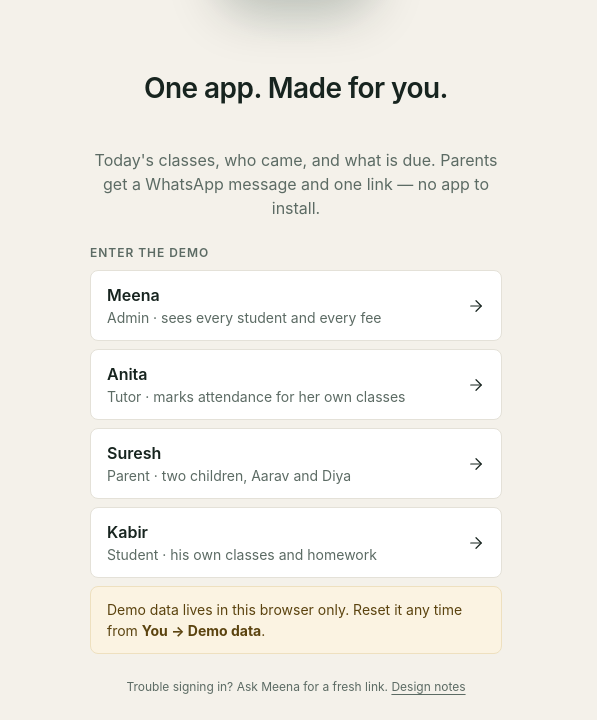
Test: person profiles › shows a student their own account without any family section
(page scrolled)
Click the button "Kabir Student · his own classes and homework" at (127, 532), box x1=90 y1=507 x2=502 y2=578
(page scrolled)
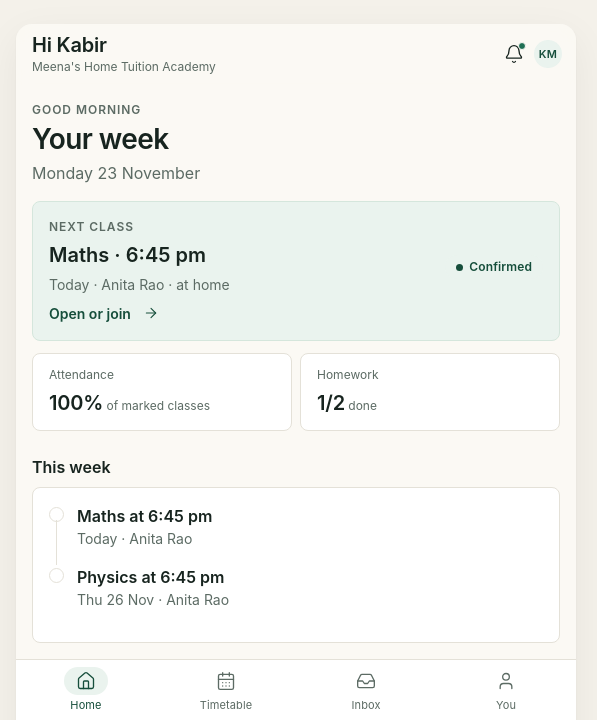
Click the link "You" at (506, 691), box x1=496 y1=671 x2=516 y2=712
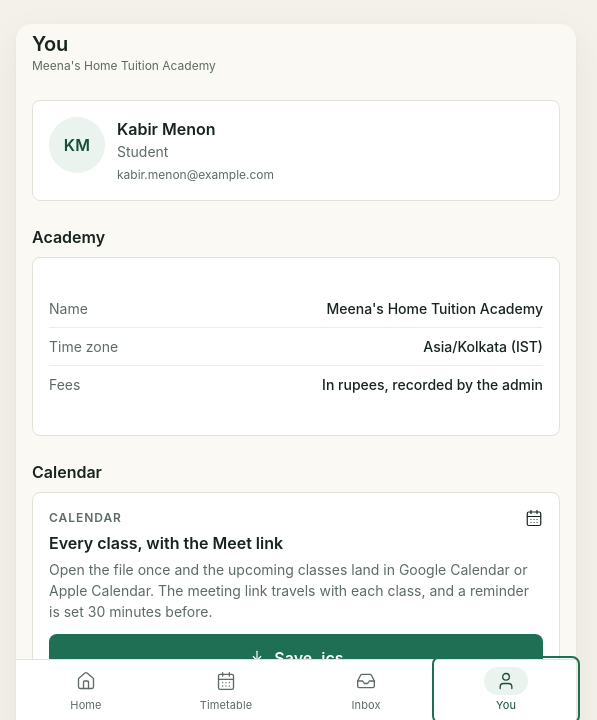
Expected: the button "children" is not shown
Result: the text "Kabir Menon" is shown at x1=117 y1=119 x2=216 y2=139
Result: the text "Student" is shown at x1=117 y1=143 x2=168 y2=160
